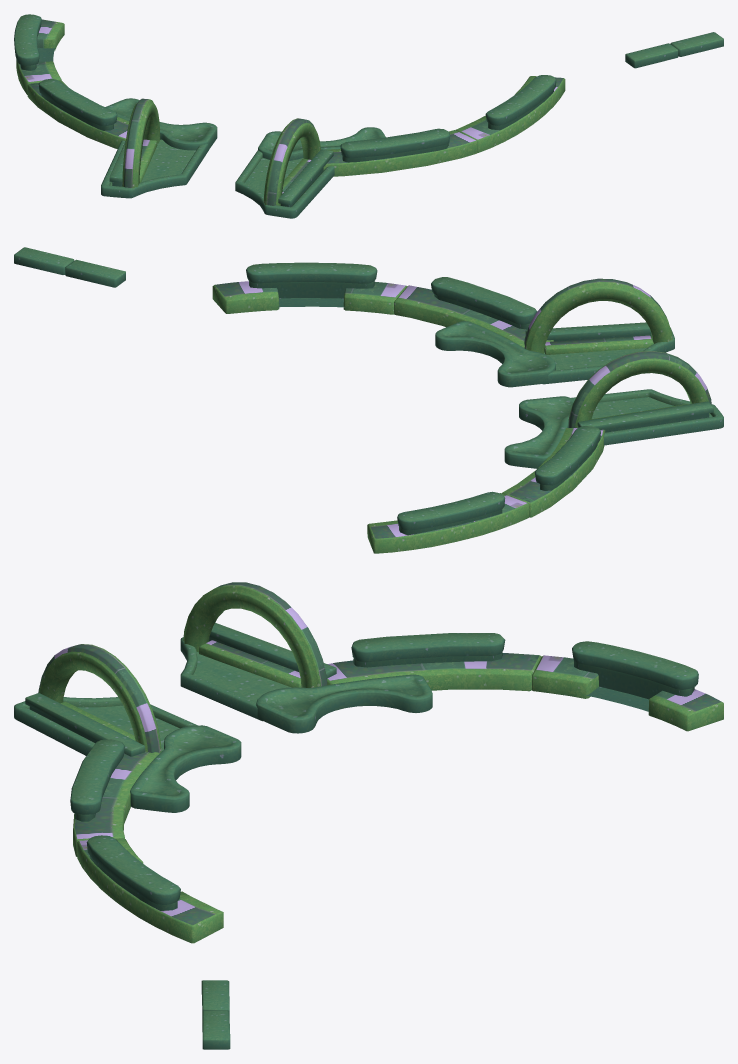
File: pref_sm_garden_bush_vertexcolor_03_lv1.fbx
3 views of the same model, one above another, from view 1: azimuth 30°, elevation 25°; view 2: azimuth 150°, elevation 25°; view 3: azimuth 270°, elevation 25° (orthographic). The views are drawn at different scales.
Parts seen in each view (by area): view 1: pref_sm_garden_bush_vertexcolor_03_lv1; view 2: pref_sm_garden_bush_vertexcolor_03_lv1; view 3: pref_sm_garden_bush_vertexcolor_03_lv1.
Boxes of the visible parts, x1,y1,x2,y2 form: pref_sm_garden_bush_vertexcolor_03_lv1: (14,14,723,218); pref_sm_garden_bush_vertexcolor_03_lv1: (14,247,723,553); pref_sm_garden_bush_vertexcolor_03_lv1: (14,582,723,1049).
Size of the model in its own units: 61.53 by 6.32 by 44.82.
